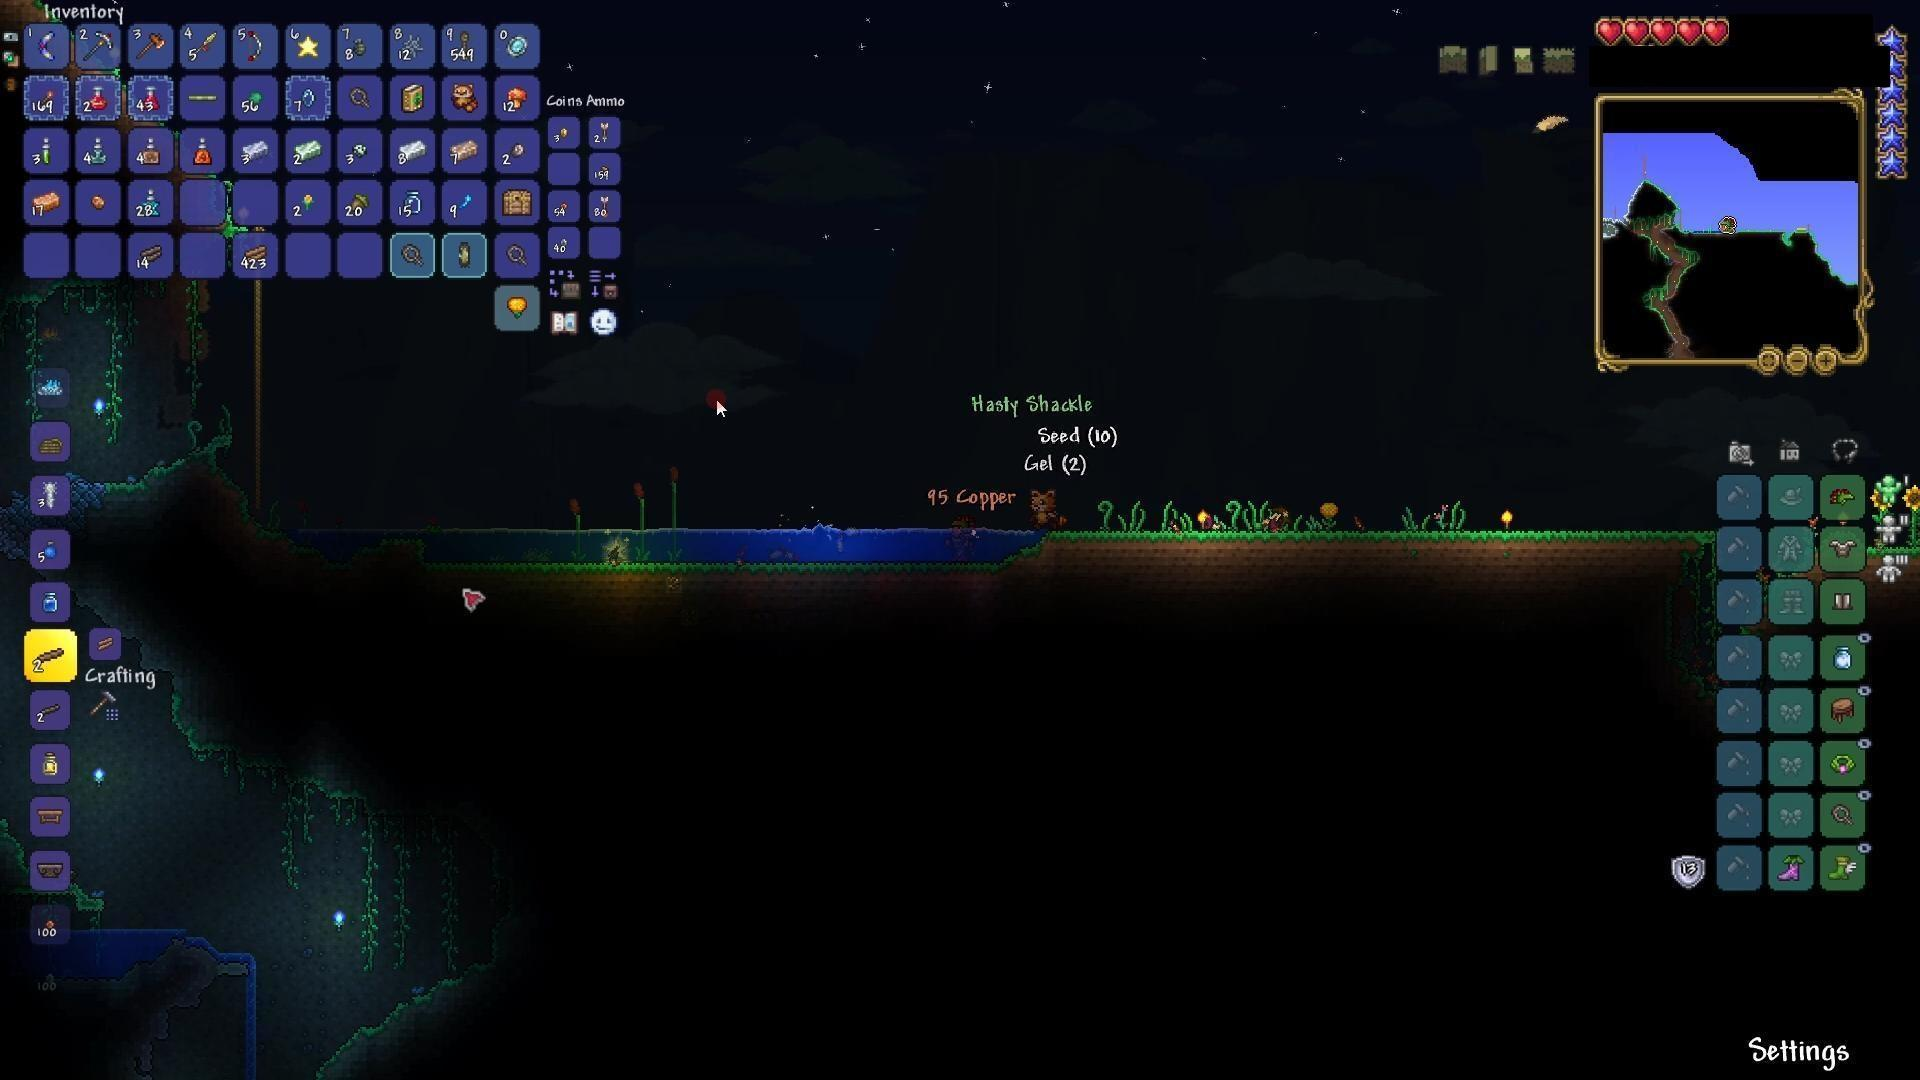dirt: (152, 676, 365, 810), (1067, 513, 1695, 543), (328, 957, 492, 1055), (99, 422, 236, 516), (518, 551, 872, 582)
heart: (1702, 17, 1733, 51), (1593, 16, 1626, 46), (1676, 15, 1704, 50), (1650, 16, 1676, 49), (1625, 15, 1651, 44)
liquid: (422, 516, 731, 553), (731, 517, 943, 546), (105, 916, 190, 956)
